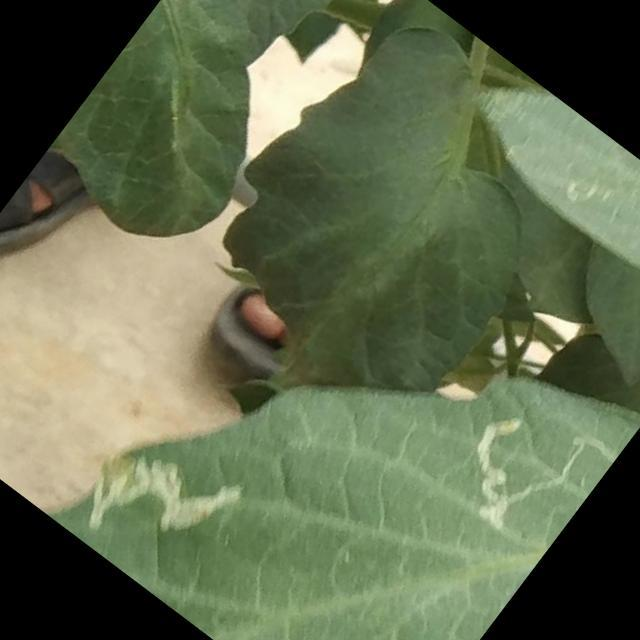Tomato healthy leaf: (152, 0, 623, 477)
Tomato target spot leaf: (48, 158, 640, 640)
